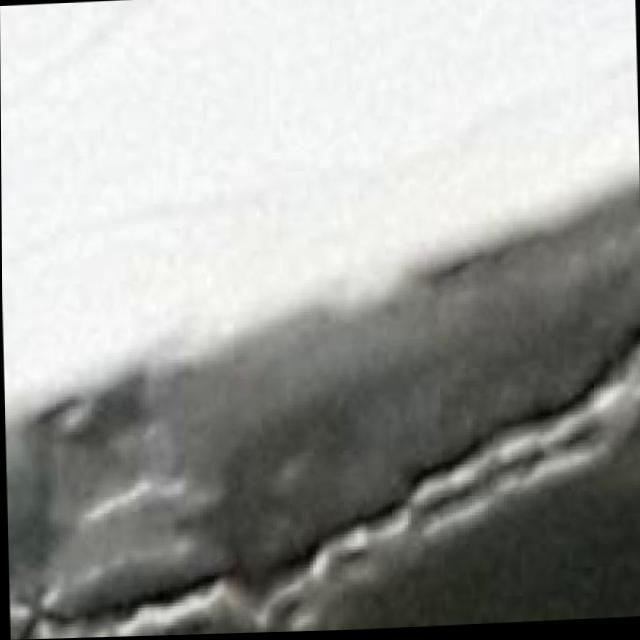Crack: (2, 309, 640, 640)
